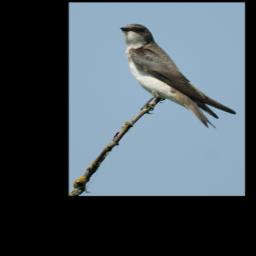Swallow: (120, 23, 237, 129)
